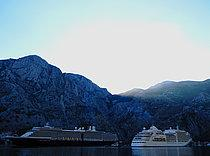Ship: (6, 121, 122, 152), (131, 125, 196, 148)
